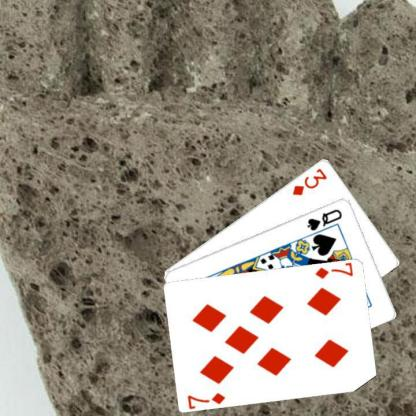3D: (289, 164, 329, 197)
7D: (312, 261, 354, 280), (185, 389, 227, 408)
QS: (304, 206, 344, 232)
